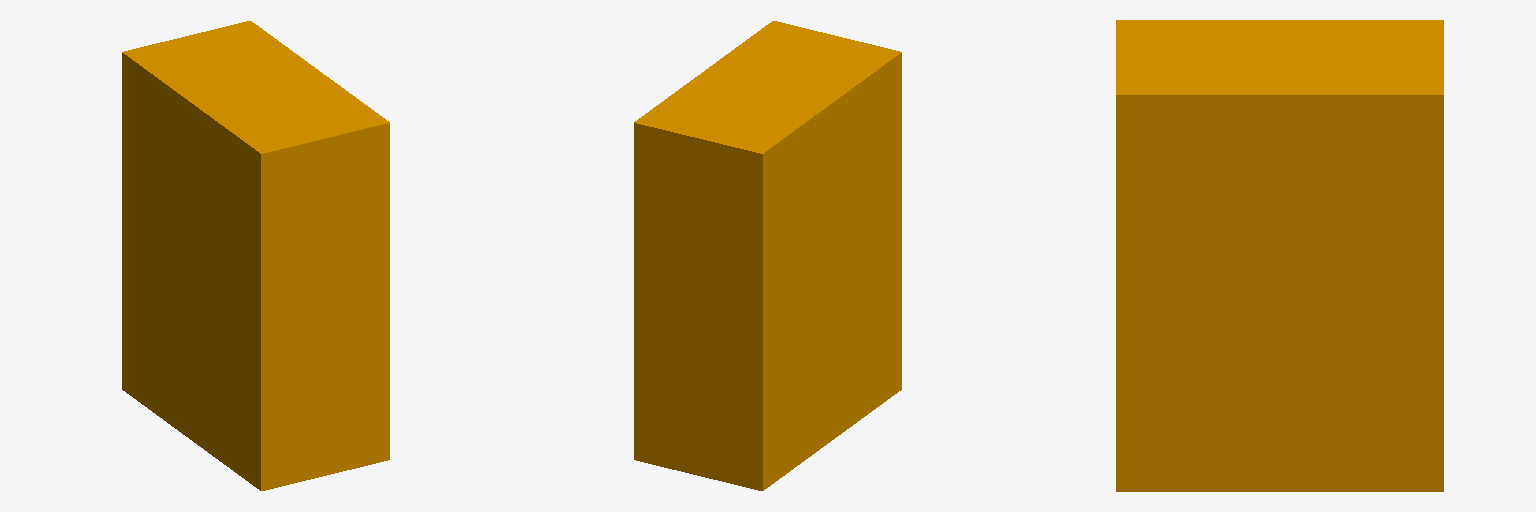
URDF robot description (box):
<robot name="box">
    <link name="base_link">
        <visual>
            <geometry>
                <box size="0.08 0.15 0.2" />
            </geometry>
        </visual>
        <collision>
            <geometry>
                <box size="0.08 0.15 0.2" />
            </geometry>
        </collision>
    </link>
</robot>

--- What the picture shows (computed from the rendered views, not written in the file) ---
3 views of the same robot in one strip: view 1: azimuth 30°, elevation 25°; view 2: azimuth 150°, elevation 25°; view 3: azimuth 270°, elevation 25° (orthographic).
Robot: box — 1 links, 0 joints (none); root link base_link; default pose: every joint at zero.
Visible links, largest first — view 1: base_link; view 2: base_link; view 3: base_link.
Boxes of the visible links, x1=… form: base_link: x1=122, y1=21, x2=389, y2=490; base_link: x1=634, y1=21, x2=901, y2=490; base_link: x1=1116, y1=20, x2=1443, y2=491.
Bounding box of the posed robot: 0.08 × 0.15 × 0.2 m (x, y, z).
Geometry: primitives only (box / cylinder / sphere), no mesh files.